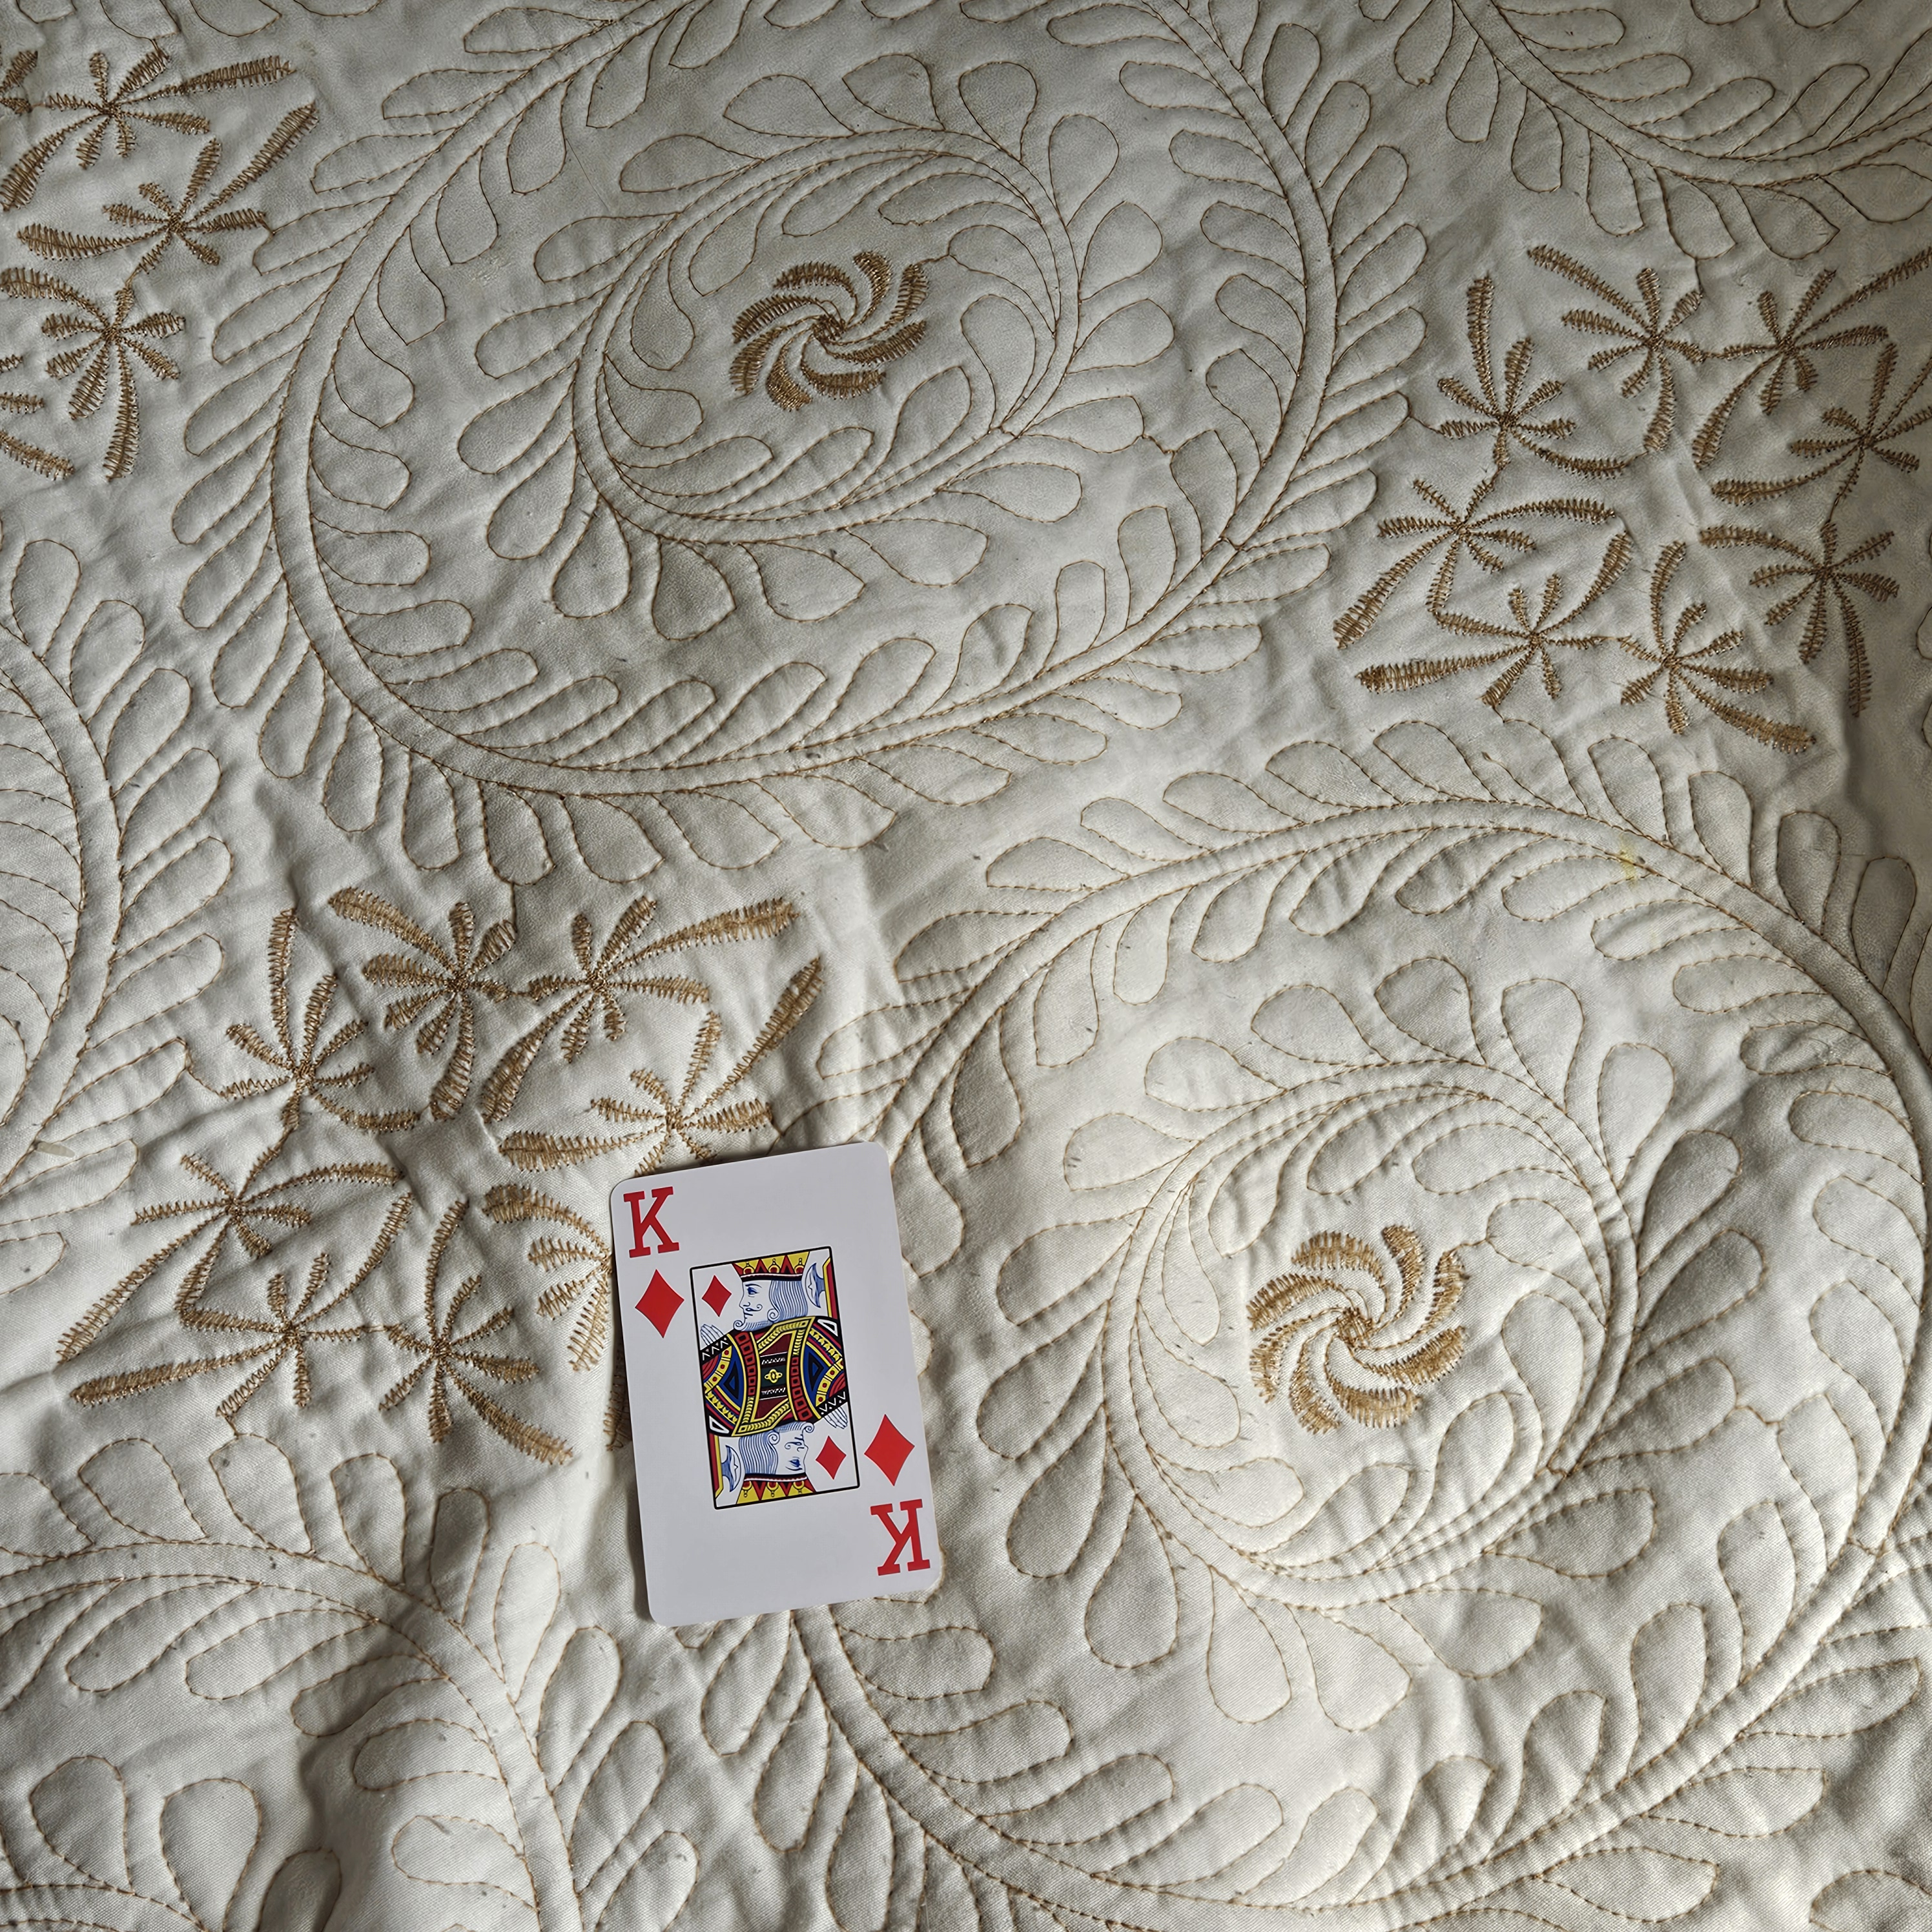KO: (856, 1403, 939, 1585), (609, 1180, 695, 1341)
